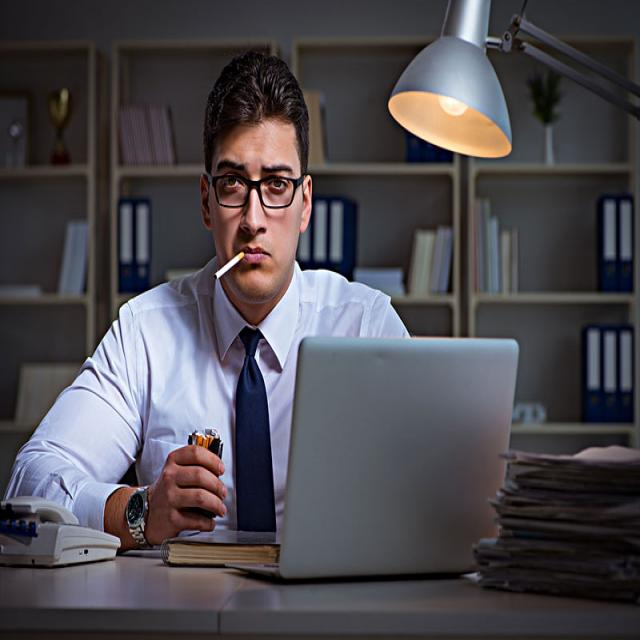smoking: (213, 250, 245, 282)
